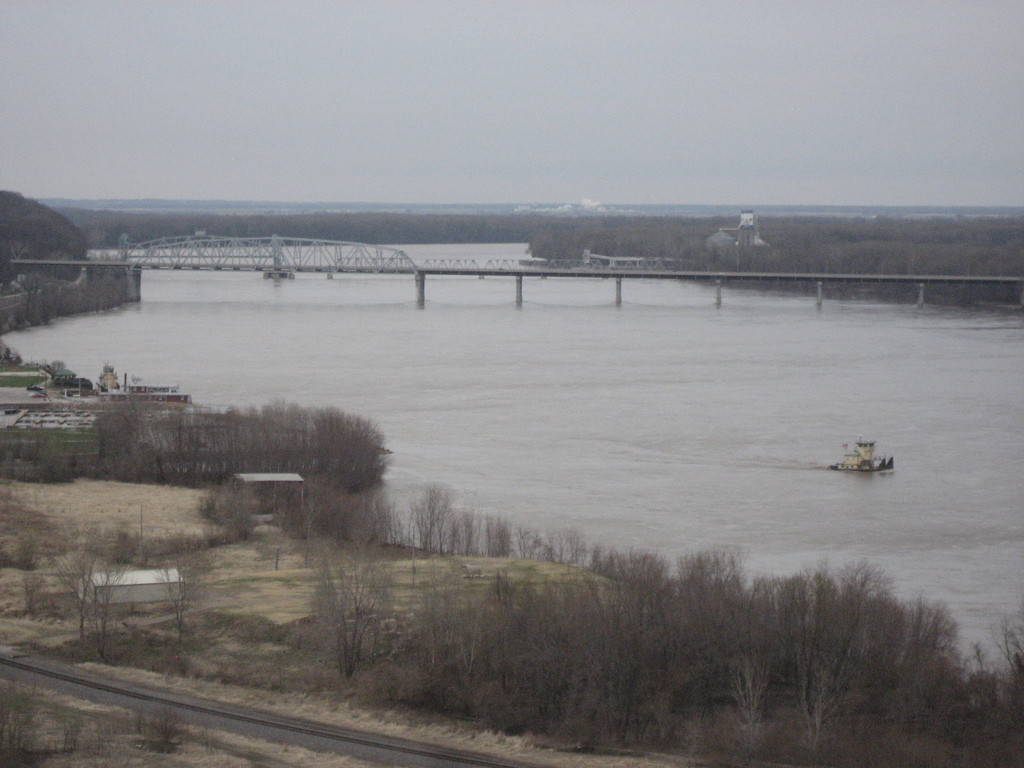Tree: (0, 189, 1023, 767), (295, 535, 400, 674)
